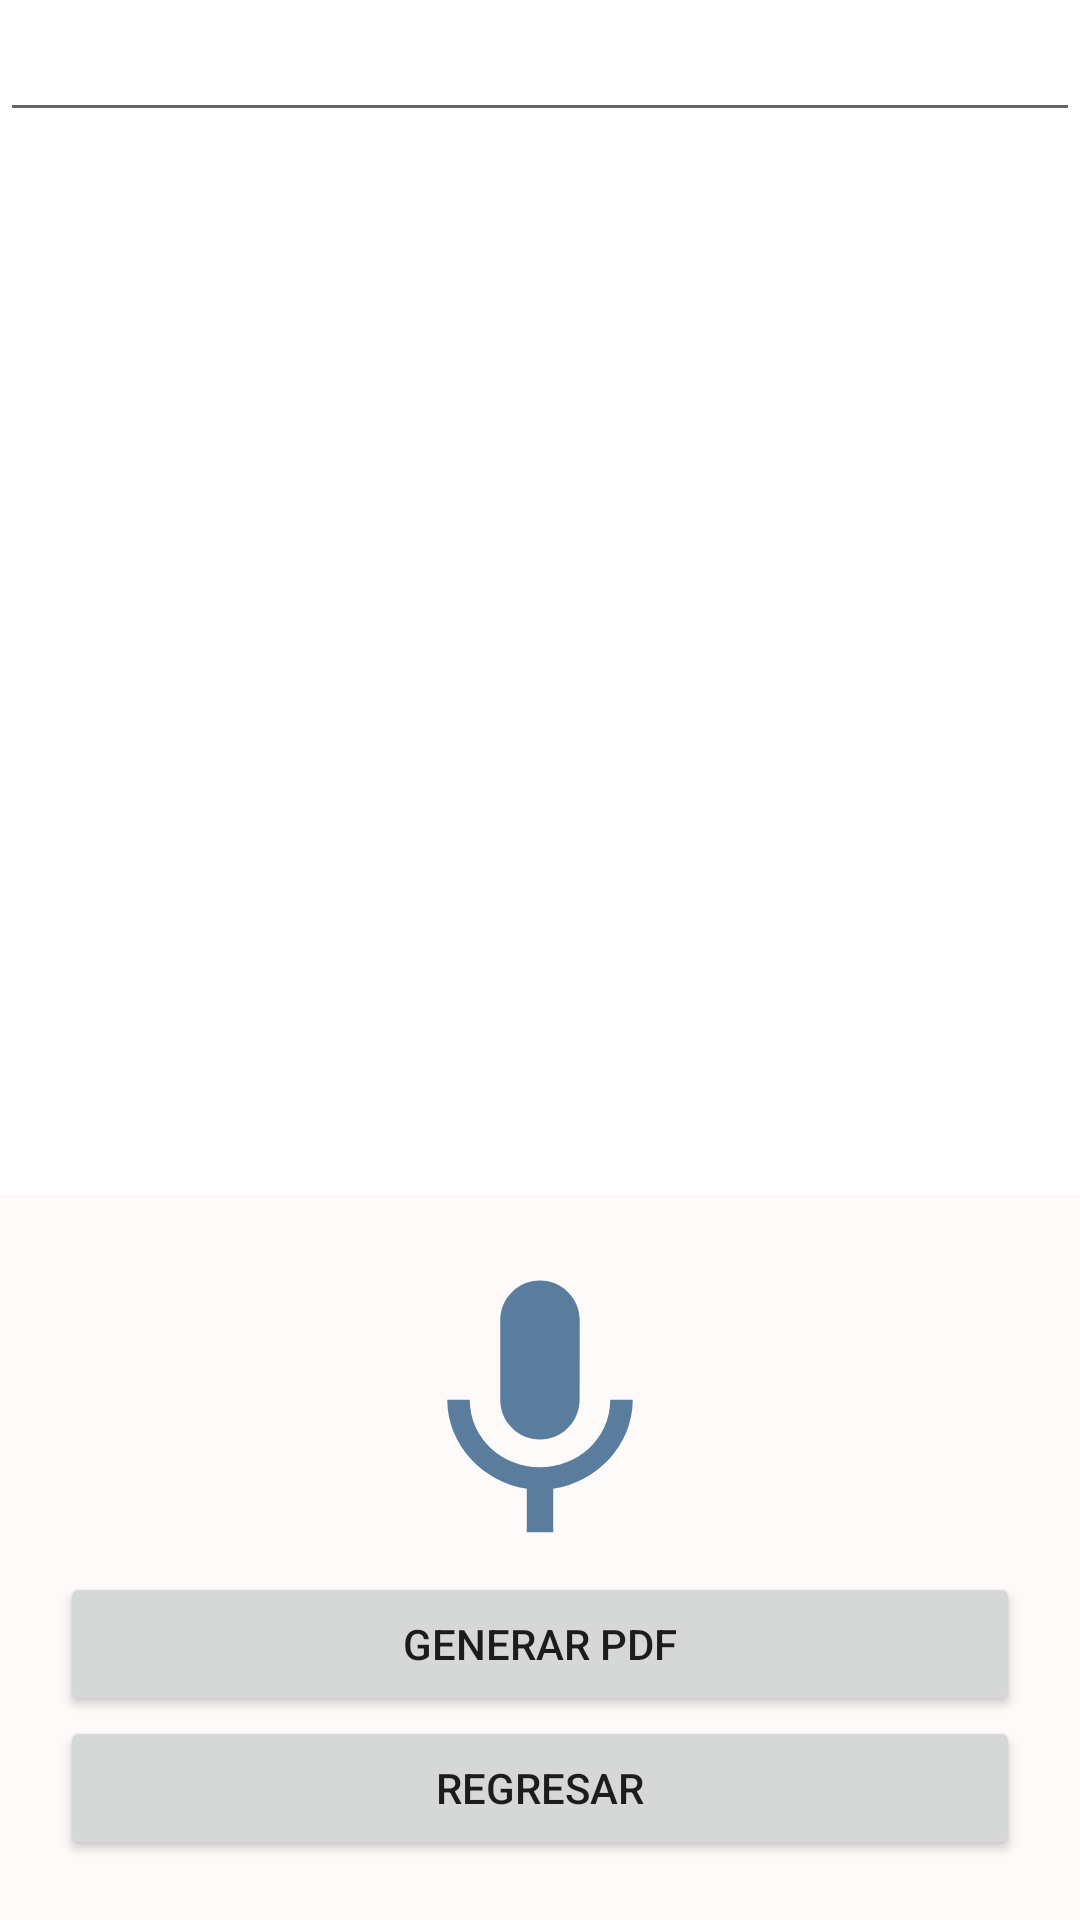

Icon bounding boxes for this 1080px x 1920px phone screenshot, format detection(x1, y1, x2, y2):
microfono: detection(447, 1280, 633, 1533)
